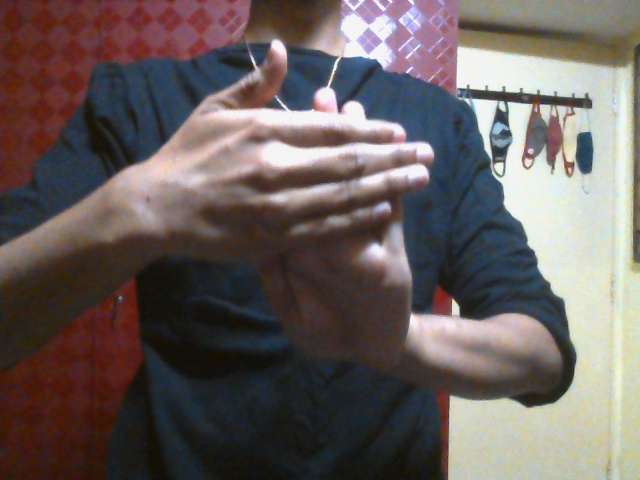H: (163, 38, 436, 365)
